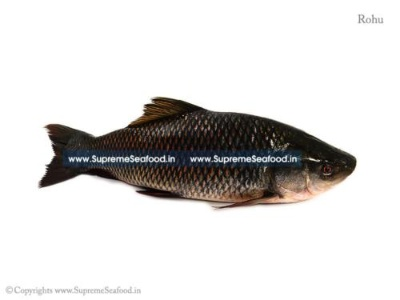rohu: (34, 93, 365, 215)
